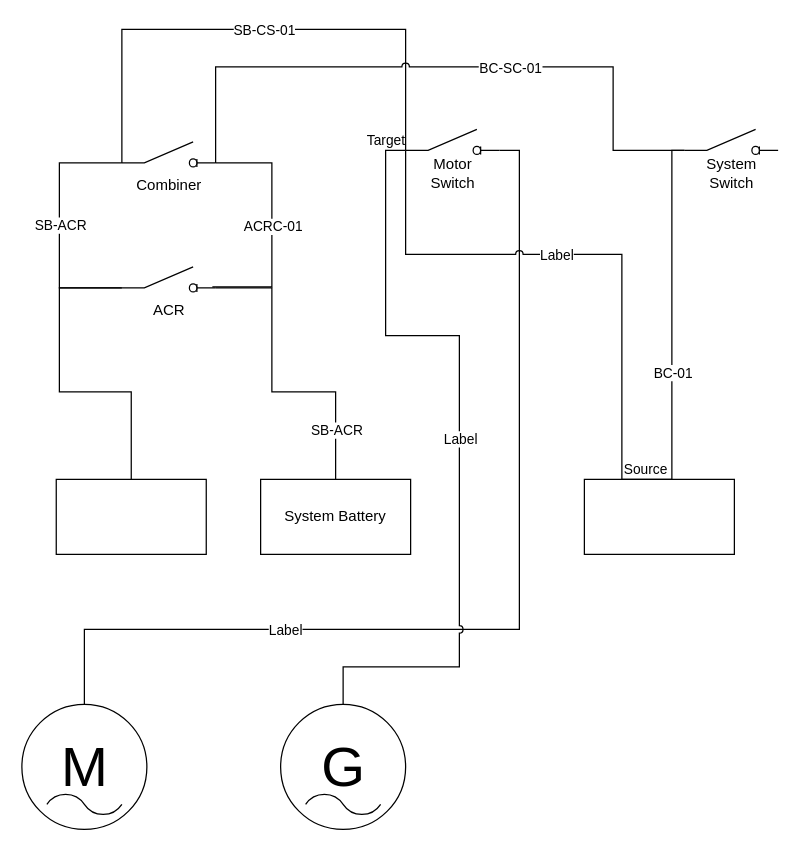
Image size: 800x851. Some labels were removed from this diagram. Here are the shapes that lost their labels. From the top down, the centre of each, then its label:
At pixel 130 516: "Starter Battery".
At pixel 658 516: "Battery Charger".
